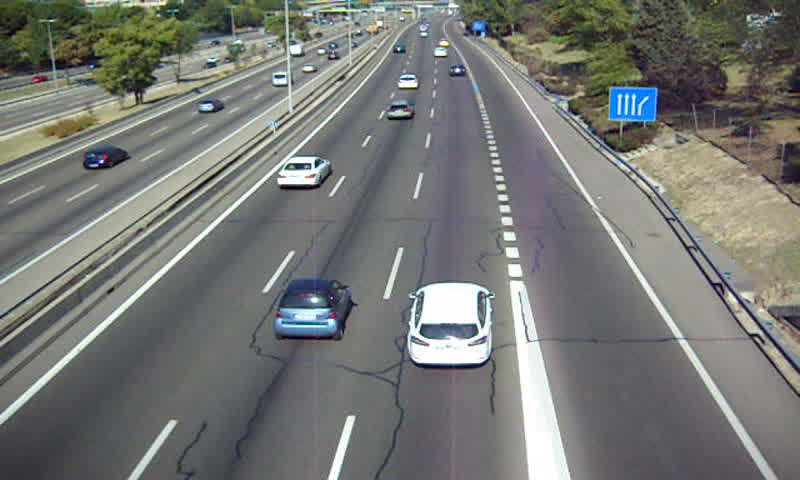car: (409, 282, 496, 366), (274, 277, 352, 339), (274, 155, 331, 188), (386, 101, 413, 120), (396, 74, 420, 90), (448, 63, 466, 76)
